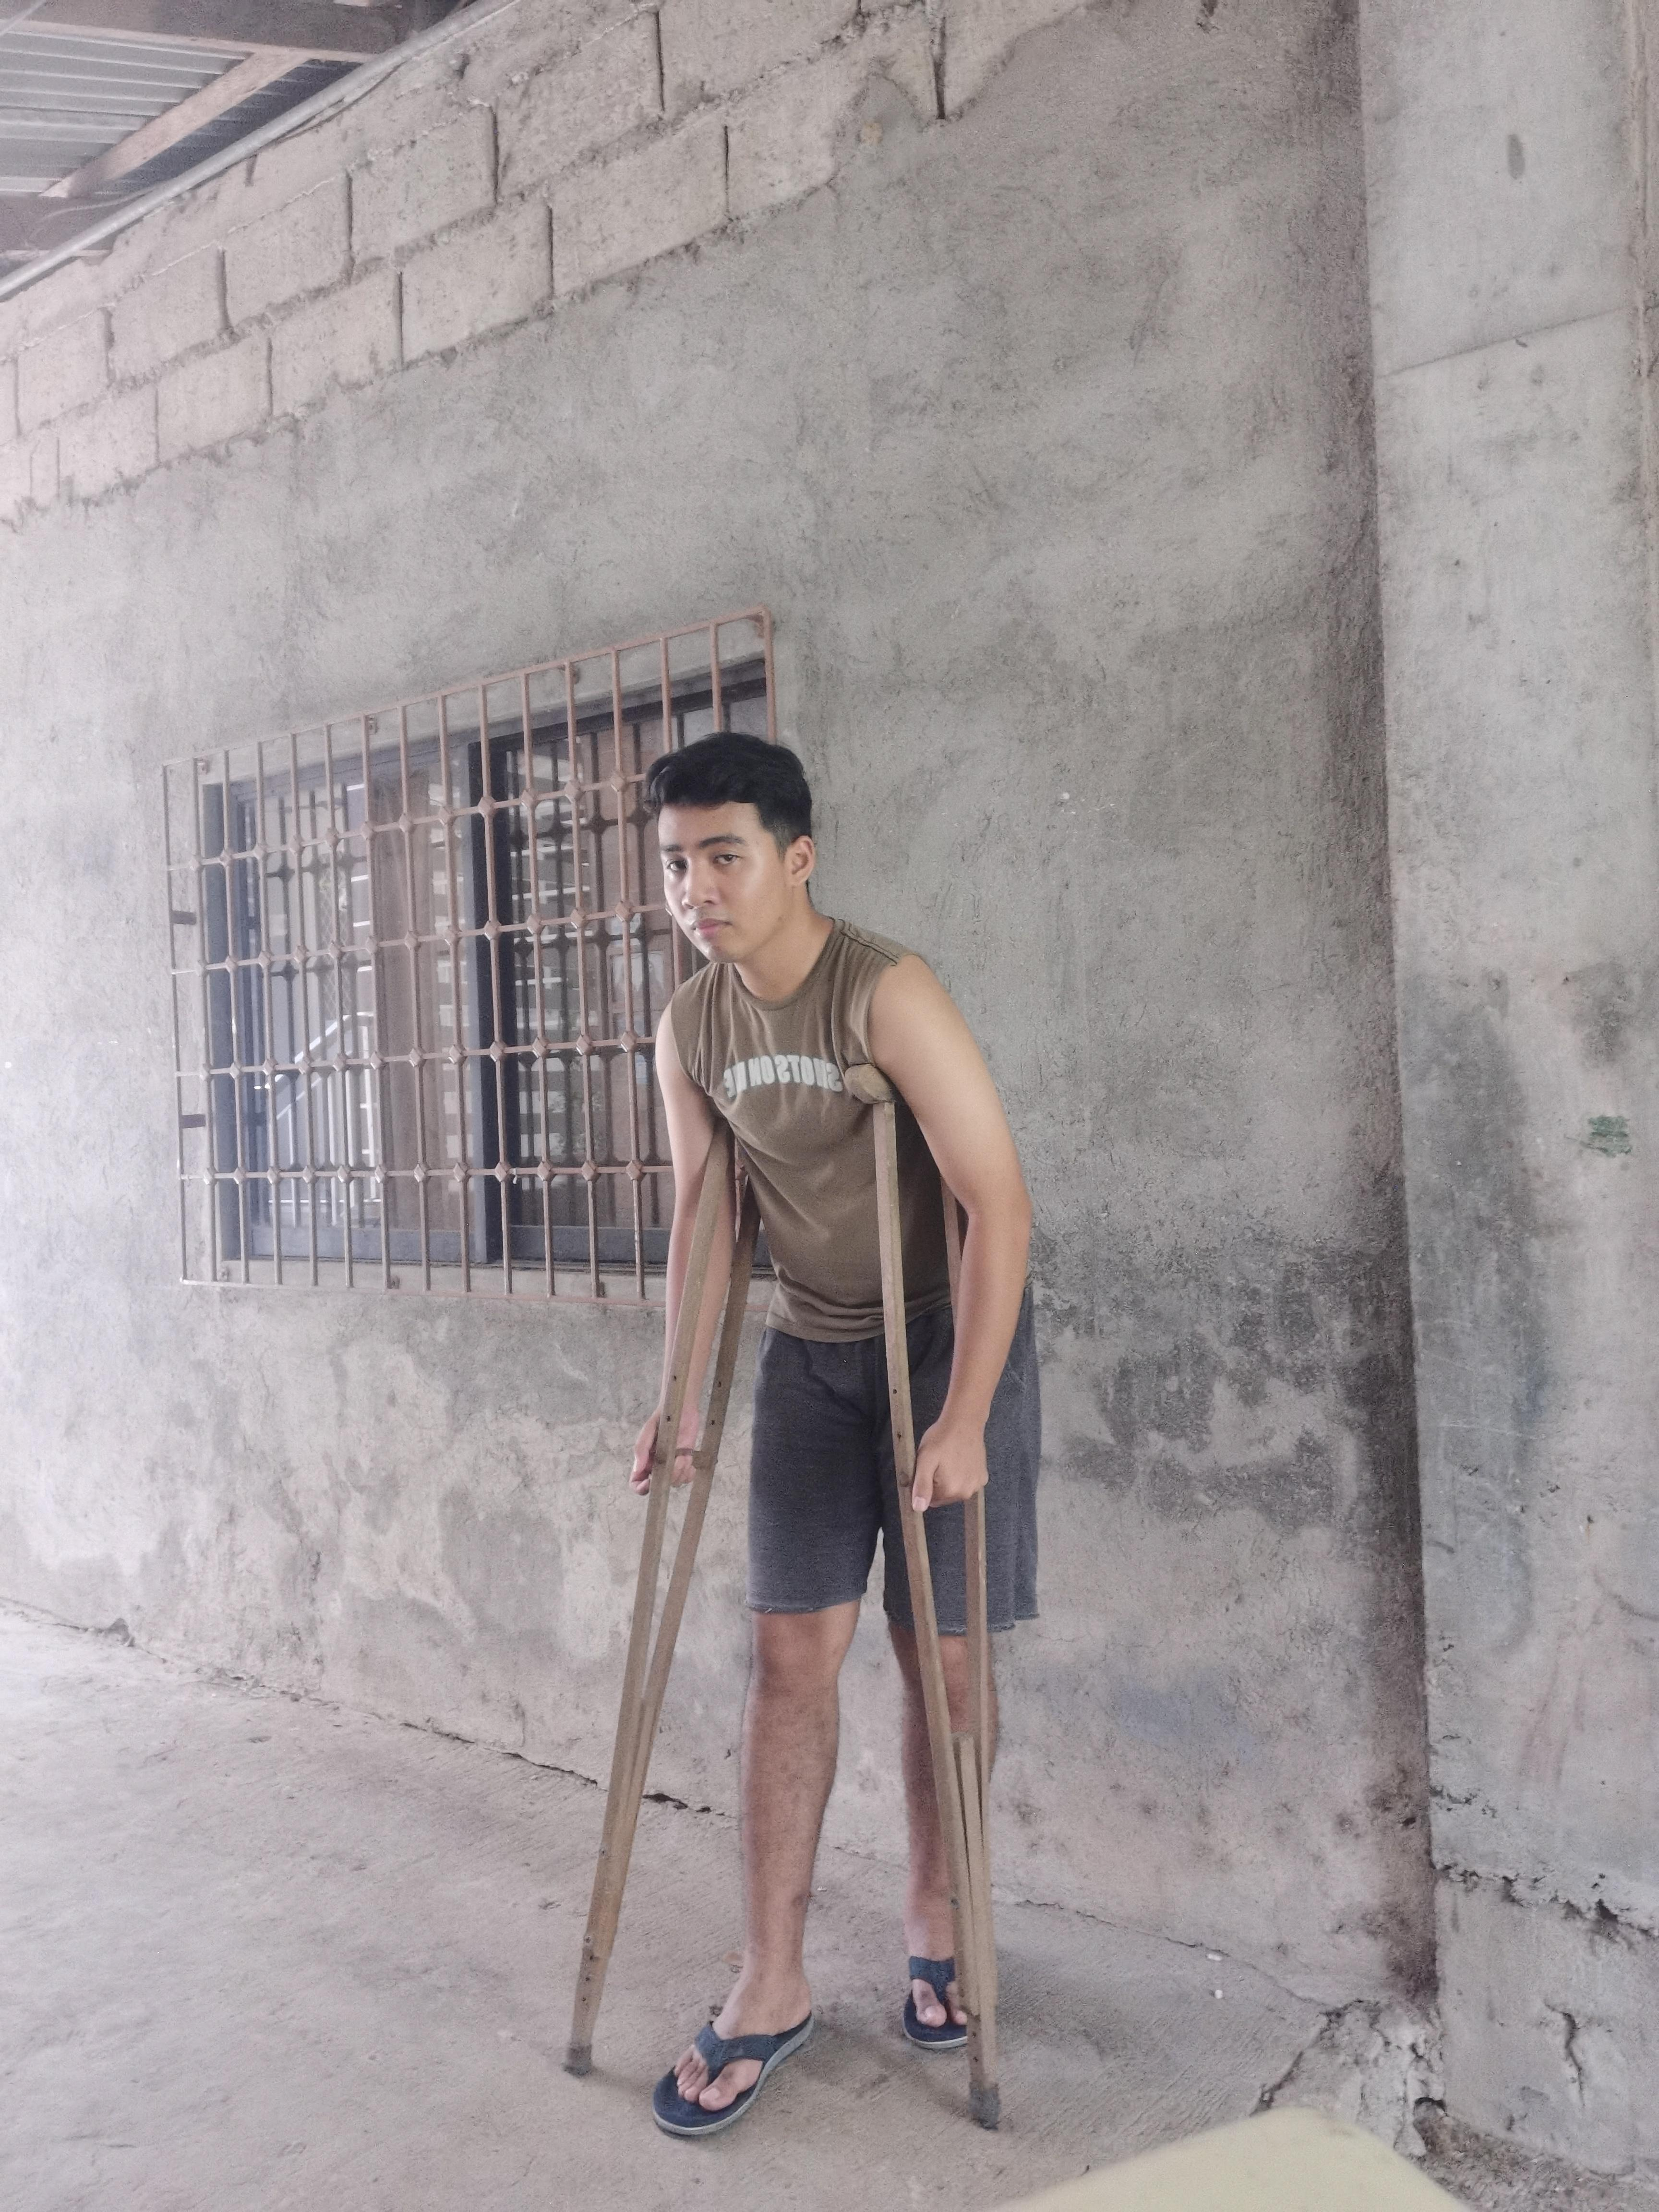crutches: (533, 716, 1063, 2158)
